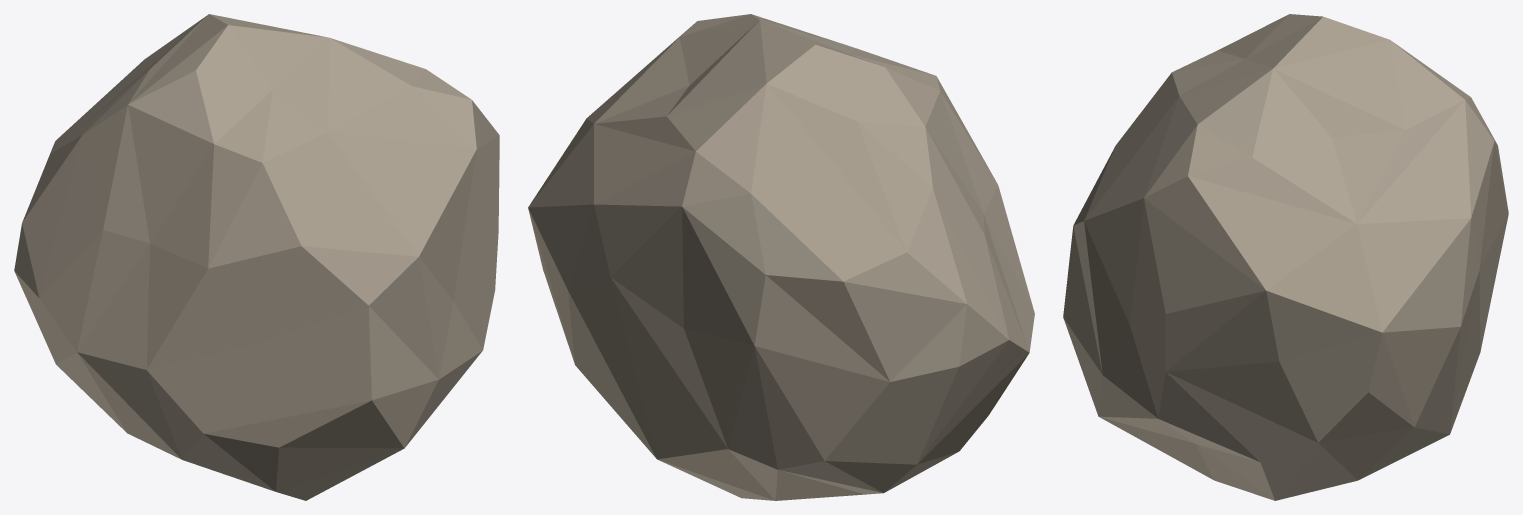
Rendered from terrain_rock3.glb.
3 renders of one model, left to right at view 1: azimuth 30°, elevation 25°; view 2: azimuth 150°, elevation 25°; view 3: azimuth 270°, elevation 25°, orthographic. The views are drawn at different scales.
Visible parts, largest first — view 1: Rock3; view 2: Rock3; view 3: Rock3.
Part boxes in pixels (left/top/right/bottom): Rock3: left=14, top=14, right=499, bottom=500; Rock3: left=528, top=14, right=1034, bottom=500; Rock3: left=1063, top=14, right=1508, bottom=500.
Bounding box in the file's own units: 1.25 × 1.22 × 1.1.
